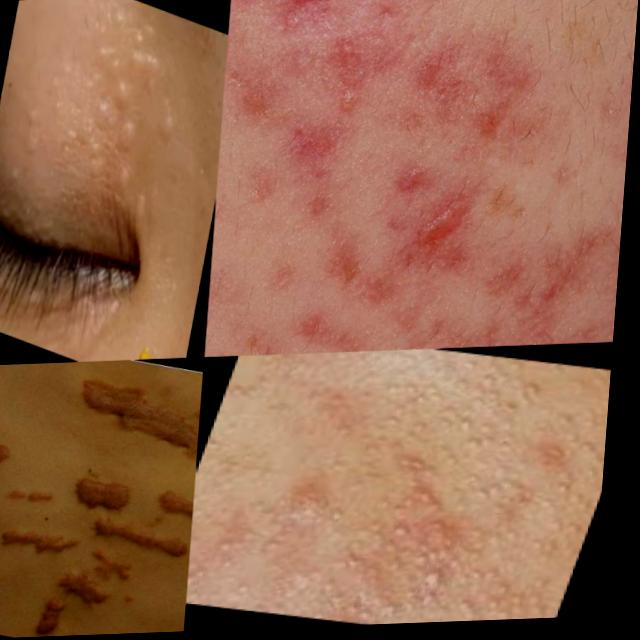6: (65, 371, 209, 484), (399, 171, 501, 290), (91, 506, 200, 568), (0, 515, 96, 568), (53, 562, 134, 616), (71, 471, 148, 522), (151, 482, 202, 548), (88, 544, 152, 592), (6, 479, 68, 514), (41, 591, 81, 638), (0, 435, 26, 473)
blackheads: (518, 223, 605, 327), (80, 0, 176, 89), (60, 64, 126, 167), (586, 238, 625, 347), (155, 89, 183, 151), (116, 107, 144, 162), (110, 68, 140, 115)
